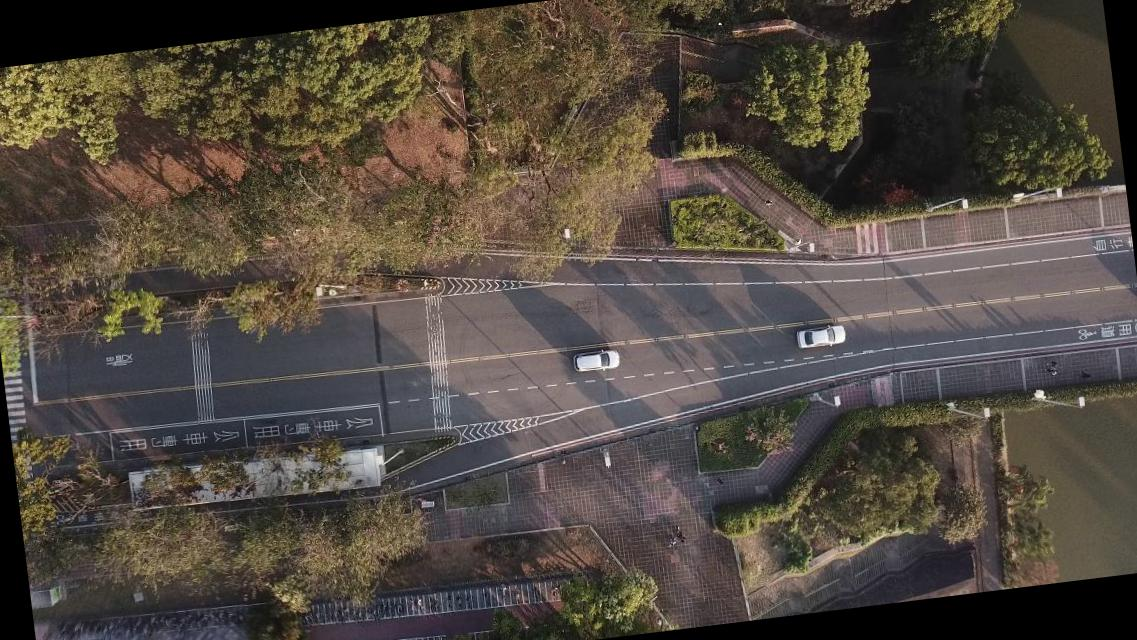vehicle: (795, 322, 846, 350), (572, 347, 620, 372)
